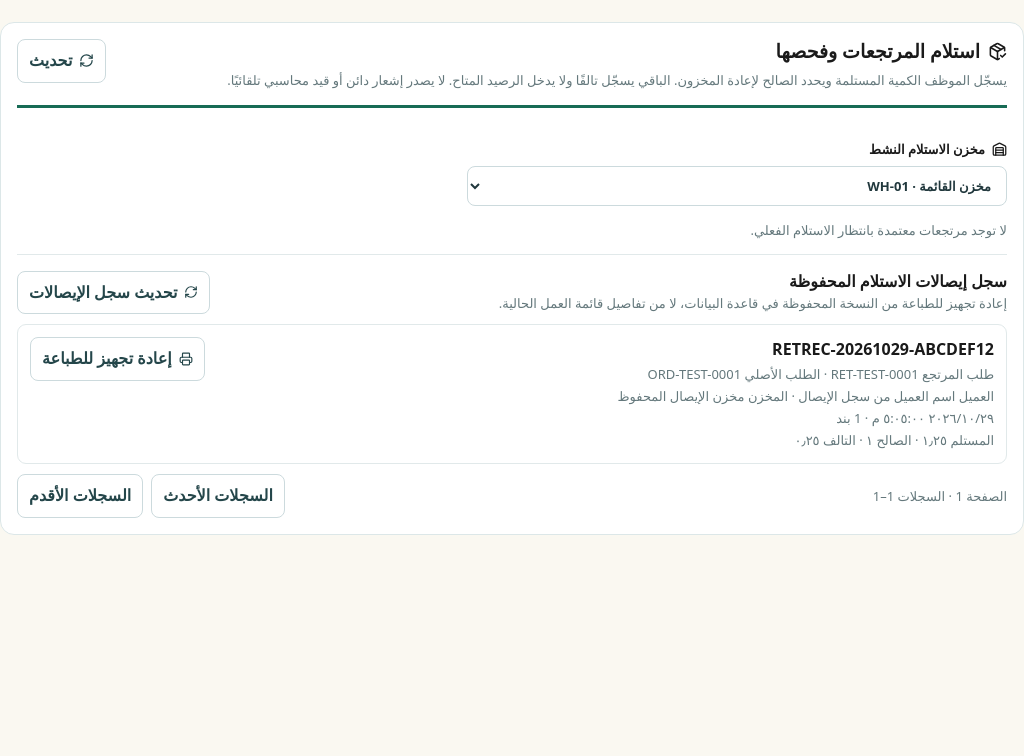
warehouse return receipt printing › loads a historical receipt snapshot from the server to reprint after the queue has changed
The image size is (1024, 756).
Step 1. Click the button with aria-label "إعادة تجهيز الإيصال للطباعة RETREC-20261029-ABCDEF12" → (117, 359), box [30,337,205,381]
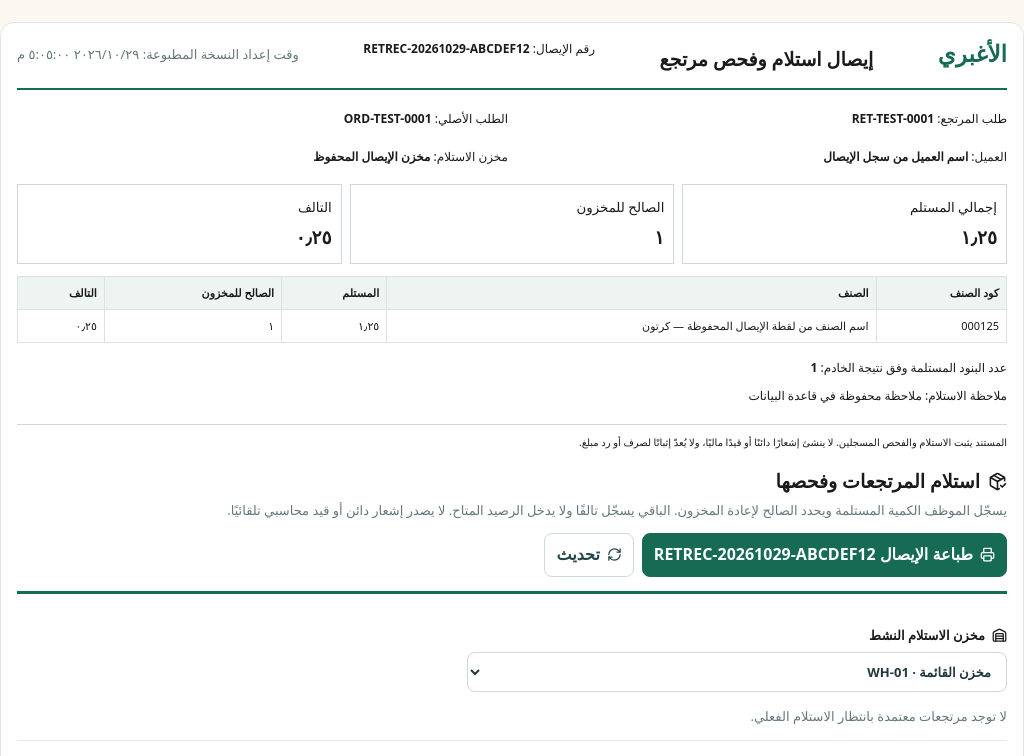
Expected: the button "طباعة الإيصال RETREC-20261029-ABCDEF12" is shown, [642,533,1007,577]
Expected: the element with class "return-receipt-print" shows "اسم العميل من سجل الإيصال", [823,148,968,165]
Expected: the element with class "return-receipt-print" shows "مخزن الإيصال المحفوظ", [313,148,430,165]
